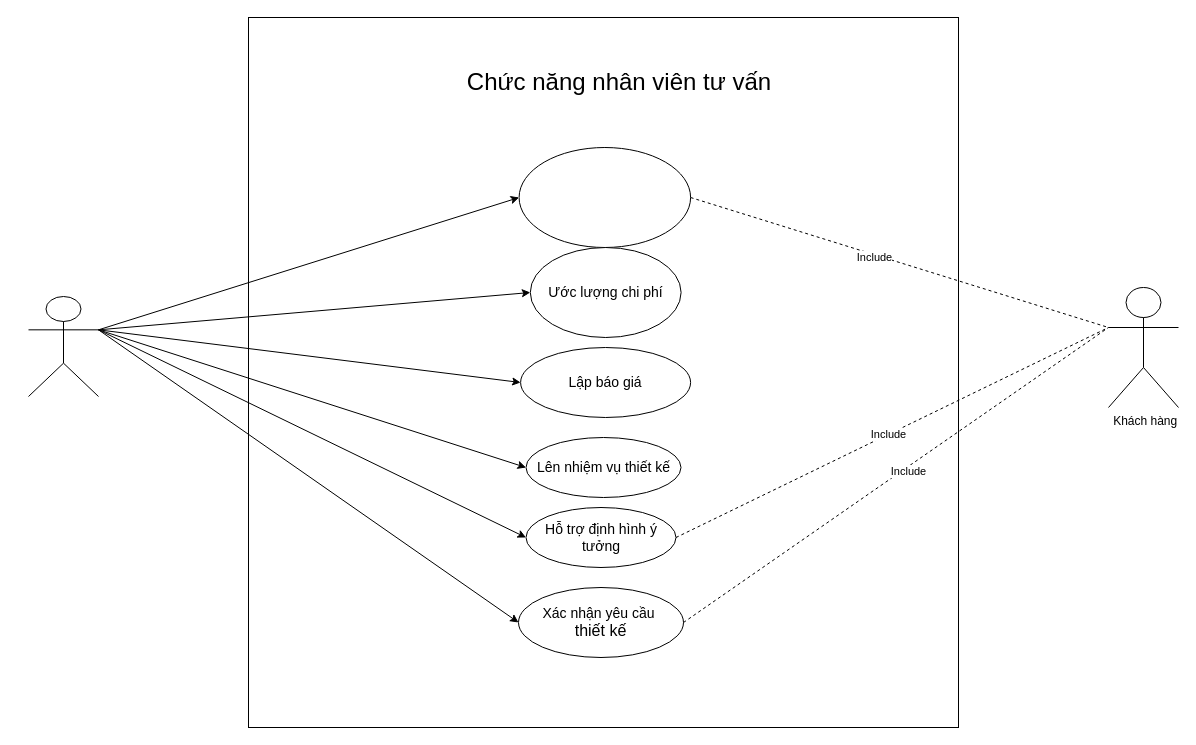
The diagram is 1196 pixels wide and 745 high, and some of its shapes have lost their labels. The shapes that lost their labels are listed below. From the top down, each one's centre as x and y in pixels, then its label:
At [604,197]: "Tư vấn thiết kế và phong cách".
At [63,346]: "Nhân Viên tư vấn".
